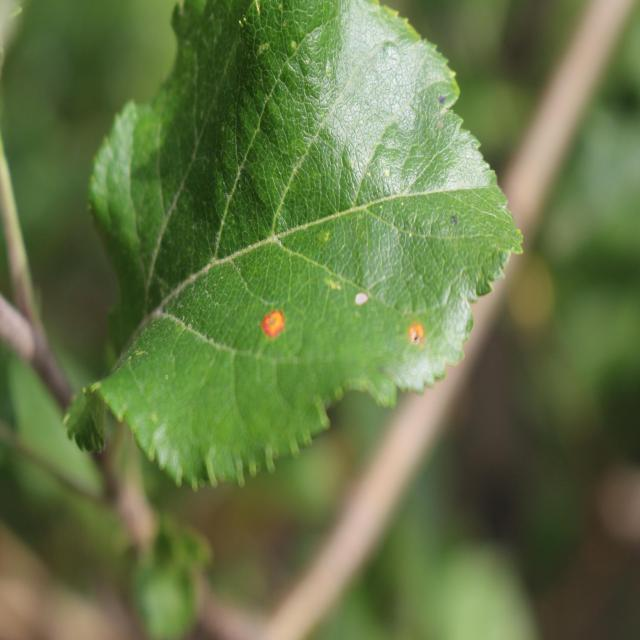Rust: (254, 299, 296, 354), (397, 313, 430, 359)
